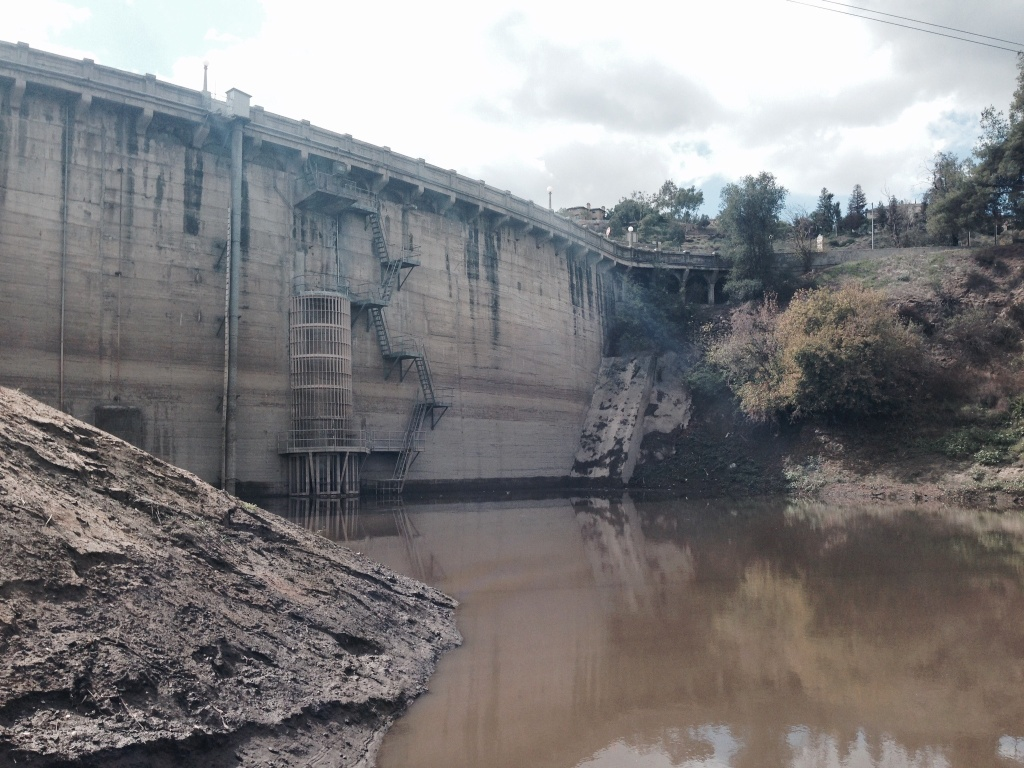sky: (586, 18, 934, 162)
tree: (706, 168, 787, 294), (851, 185, 869, 222)
water: (248, 475, 1024, 761)
